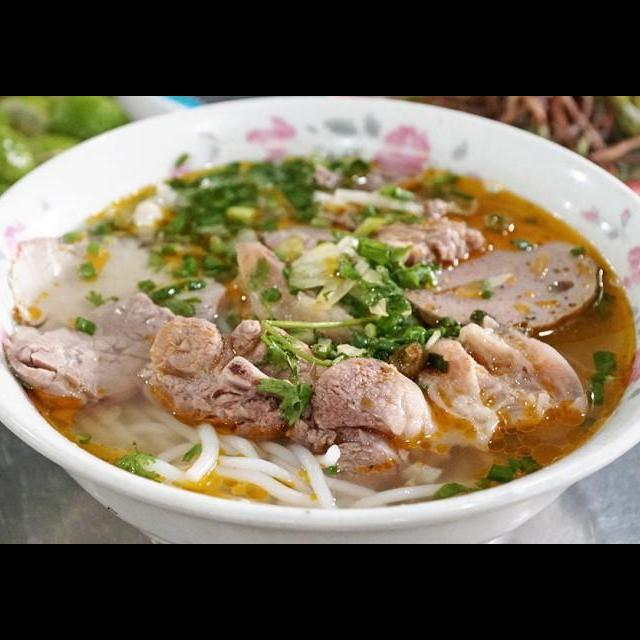bun: (52, 390, 487, 510)
bun bo: (0, 116, 640, 544)
thit bo: (0, 284, 205, 413)
